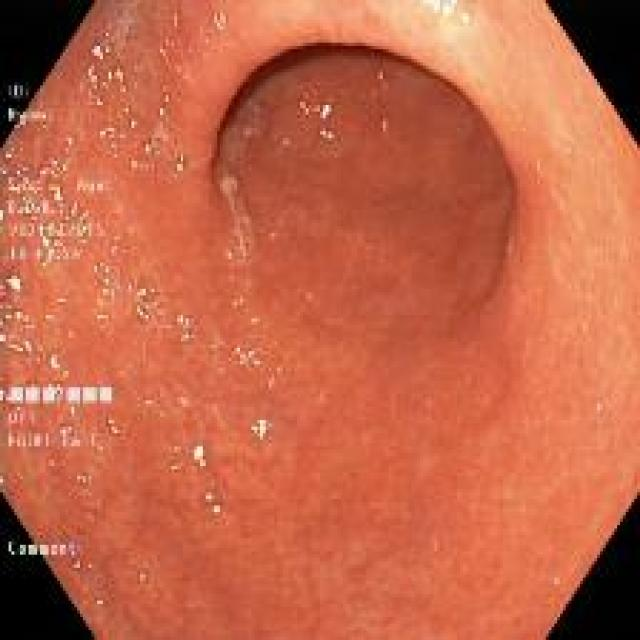ulcerative-colitis-grade-1: (0, 4, 640, 639)
